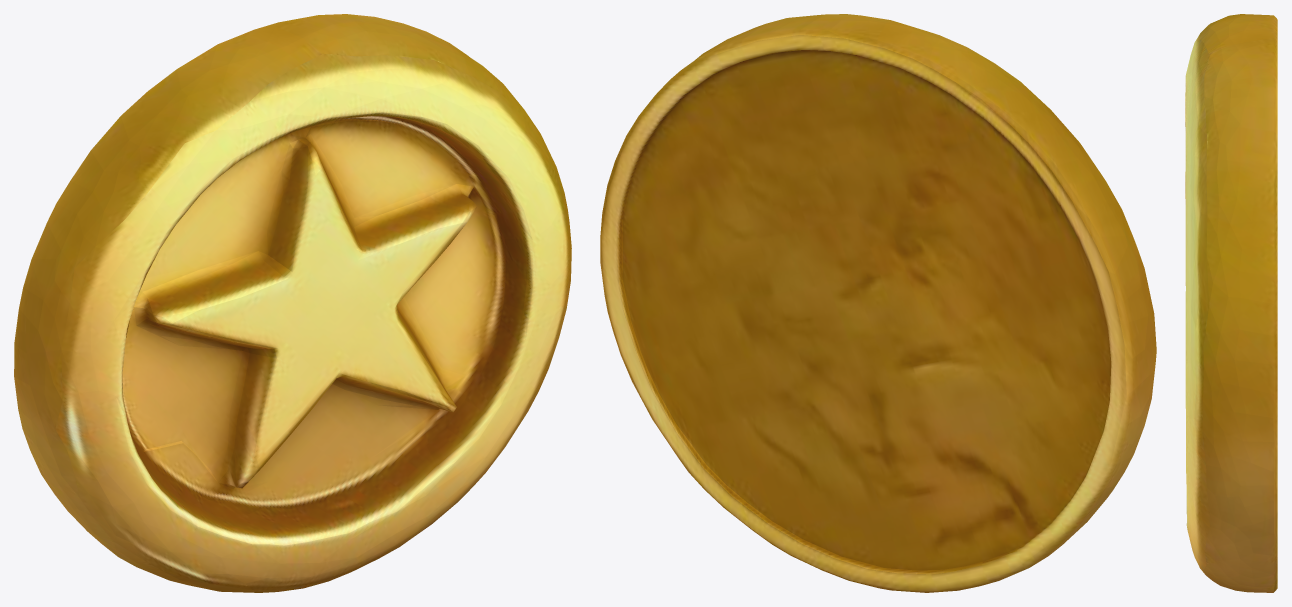
The model's file is coin.glb.
3 views of the same model, side by side, from view 1: azimuth 30°, elevation 25°; view 2: azimuth 150°, elevation 25°; view 3: azimuth 270°, elevation 25° (orthographic). The views are drawn at different scales.
Parts seen in each view (by area): view 1: model; view 2: model; view 3: model.
Part boxes in pixels (x1,y1,x2,y2): model: [14, 14, 571, 592]; model: [600, 14, 1156, 592]; model: [1185, 14, 1277, 592].
Bounding box in the file's own units: 1.1 × 1.08 × 0.1738.
1 material, 1 textured.
